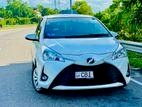car: (24, 15, 132, 93)
